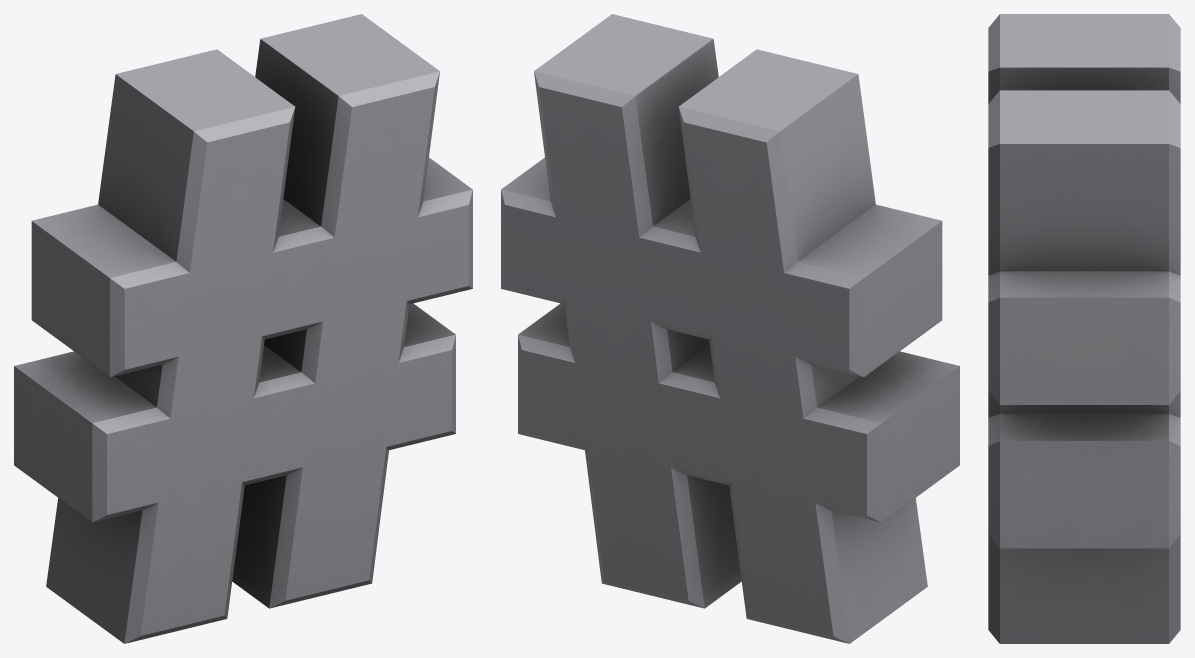
Rendered from Pound.FBX.
3 renders of one model, left to right at view 1: azimuth 30°, elevation 25°; view 2: azimuth 150°, elevation 25°; view 3: azimuth 270°, elevation 25°, orthographic. The views are drawn at different scales.
Visible parts, largest first — view 1: Pound; view 2: Pound; view 3: Pound.
Part boxes in pixels (x1,y1,x2,y2): Pound: (14, 14, 472, 643); Pound: (501, 14, 959, 643); Pound: (988, 14, 1180, 643).
Size of the model in its own units: 81.4 by 101 by 33.
